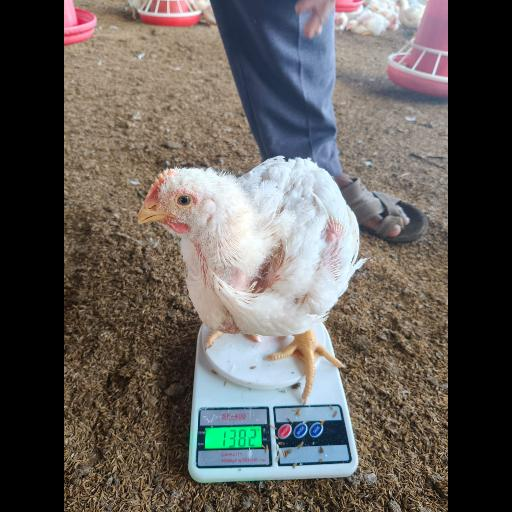chick: (137, 154, 361, 403)
